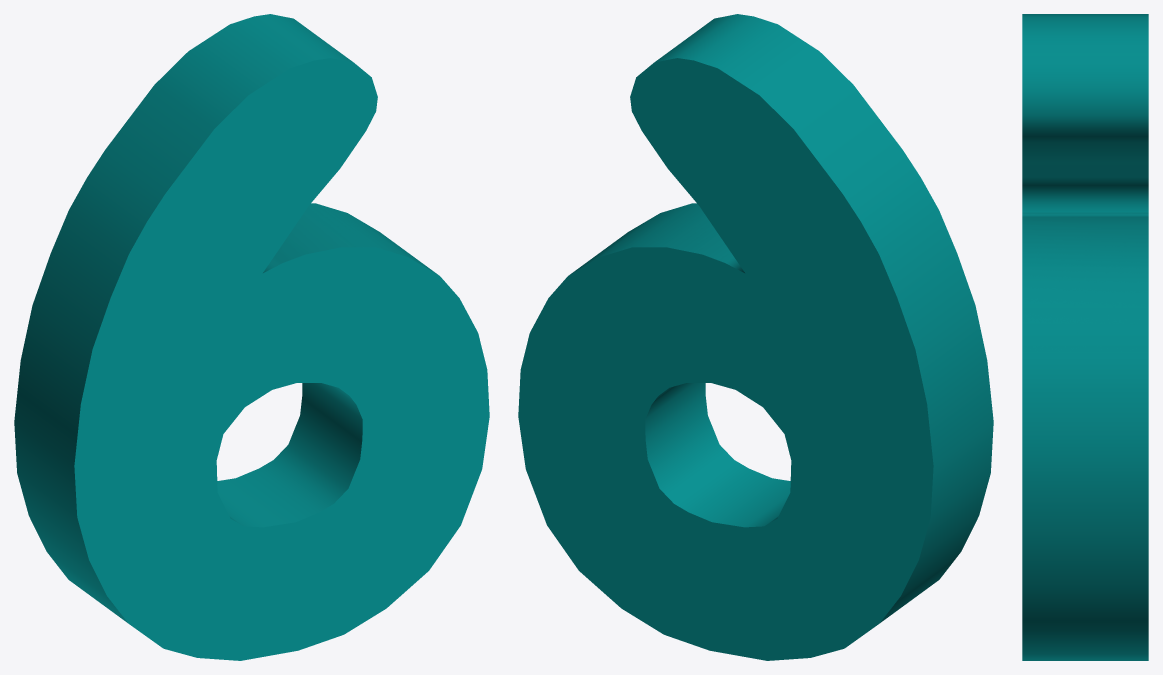
Rendered from number_6.FBX.
3 views of the same model, side by side, from view 1: azimuth 30°, elevation 25°; view 2: azimuth 150°, elevation 25°; view 3: azimuth 270°, elevation 25° (orthographic). The views are drawn at different scales.
Visible parts, largest first — view 1: number_6; view 2: number_6; view 3: number_6.
Boxes of the visible parts, <box> form: number_6: <box>14,14,489,660</box>; number_6: <box>518,14,993,660</box>; number_6: <box>1022,14,1148,660</box>.
Size of the model in its own units: 26.87 by 36.26 by 6.74.
